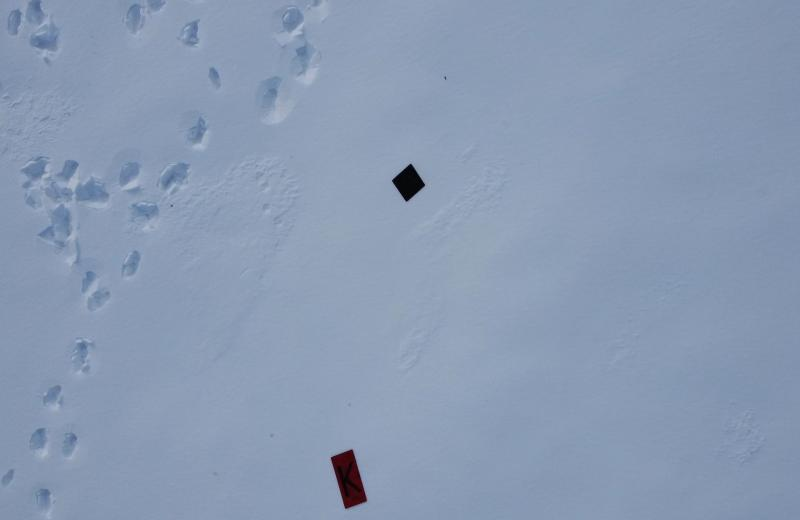Rectangle: (331, 449, 370, 510)
Square: (392, 163, 427, 203)
